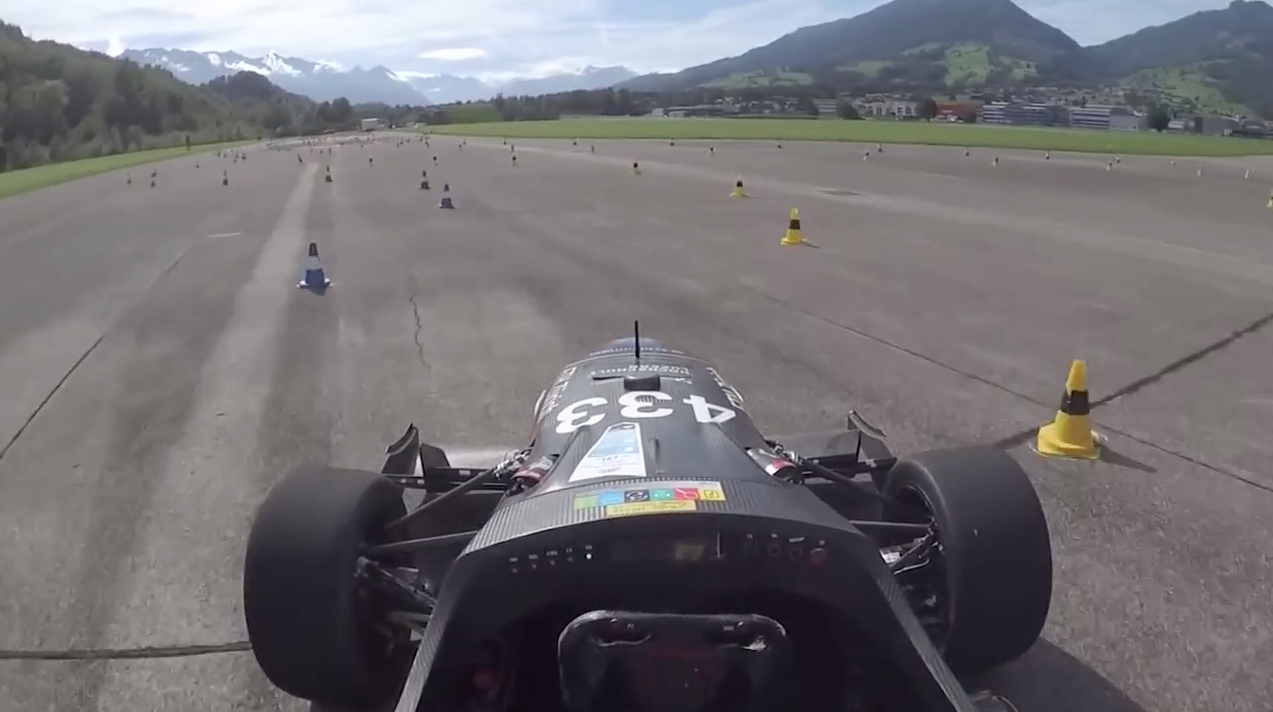lcone: (292, 236, 336, 295), (436, 179, 456, 212)
rcone: (1027, 352, 1111, 465), (775, 202, 811, 249), (729, 171, 751, 203)
